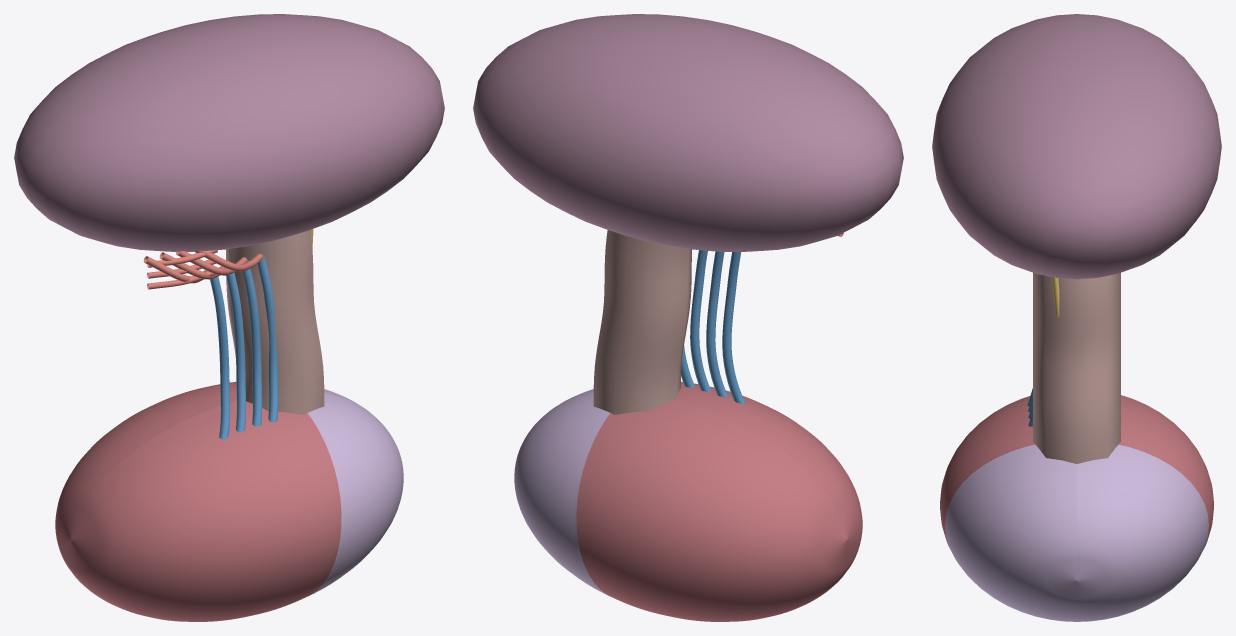
The model's file is pituitary-pathways.glb.
3 renders of one model, left to right at view 1: azimuth 30°, elevation 25°; view 2: azimuth 150°, elevation 25°; view 3: azimuth 270°, elevation 25°, orthographic. The views are drawn at different scales.
Parts seen in each view (by area): view 1: hypothalamus, anterior_lobe, stalk, posterior_lobe, portal_veins, primary_plexus; view 2: hypothalamus, anterior_lobe, stalk, posterior_lobe, portal_veins; view 3: hypothalamus, posterior_lobe, stalk, anterior_lobe.
Boxes of the visible parts, <box> form: hypothalamus: <box>14,14,444,251</box>; anterior_lobe: <box>55,382,341,621</box>; stalk: <box>225,230,324,414</box>; posterior_lobe: <box>307,389,403,594</box>; portal_veins: <box>210,256,278,439</box>; primary_plexus: <box>143,250,263,289</box>; hypothalamus: <box>473,14,903,251</box>; anterior_lobe: <box>576,381,862,621</box>; stalk: <box>593,230,692,414</box>; posterior_lobe: <box>514,389,610,594</box>; portal_veins: <box>681,250,745,403</box>; hypothalamus: <box>932,14,1221,279</box>; posterior_lobe: <box>945,444,1208,621</box>; stalk: <box>1033,272,1120,463</box>; anterior_lobe: <box>940,395,1213,546</box>.
Bounding box in the file's own units: 1.76 × 2.33 × 1.12.
